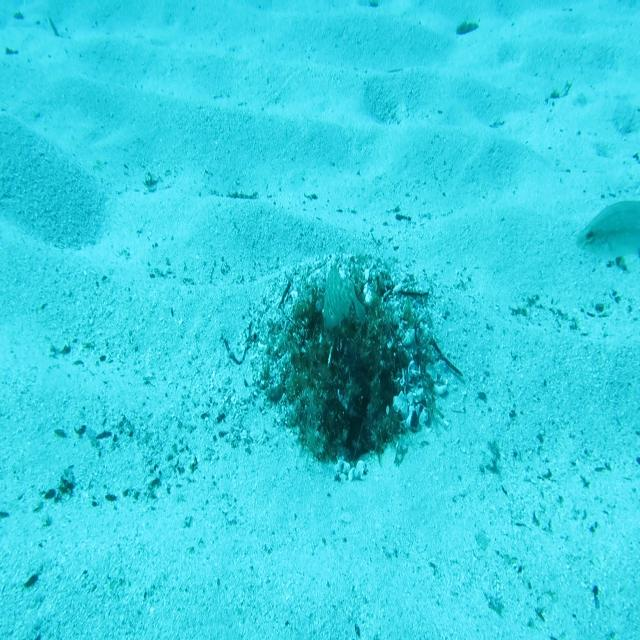NIP_CORE: (322, 265, 368, 334)
core_nest: (318, 306, 363, 340)
female: (573, 198, 640, 266)
nest: (238, 238, 458, 485)
vegetation: (455, 16, 479, 38)
